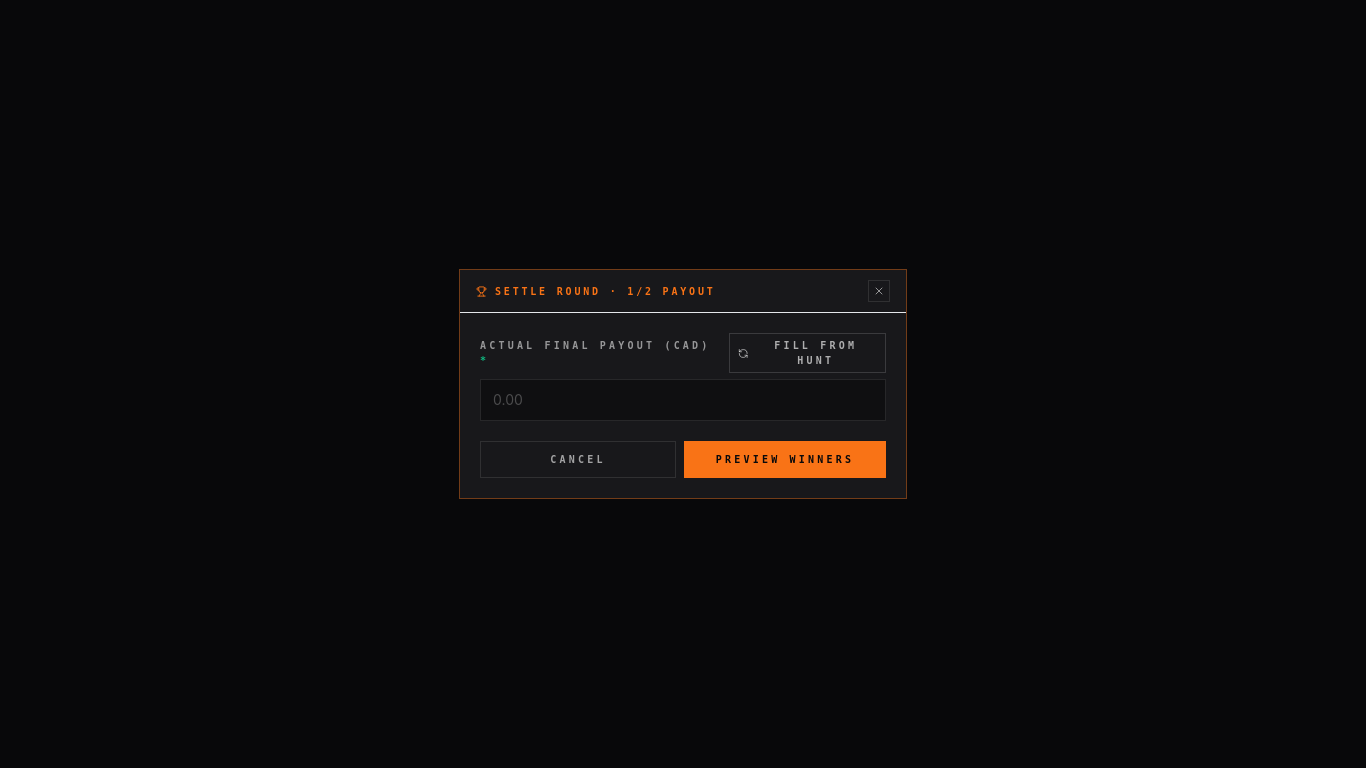
Scenario: Fill from hunt on a missing hunt shows a readable error
This screenshot has width=1366, height=768.
Click the button "Fill from hunt". click: (808, 353)
box: [729,333,886,373]
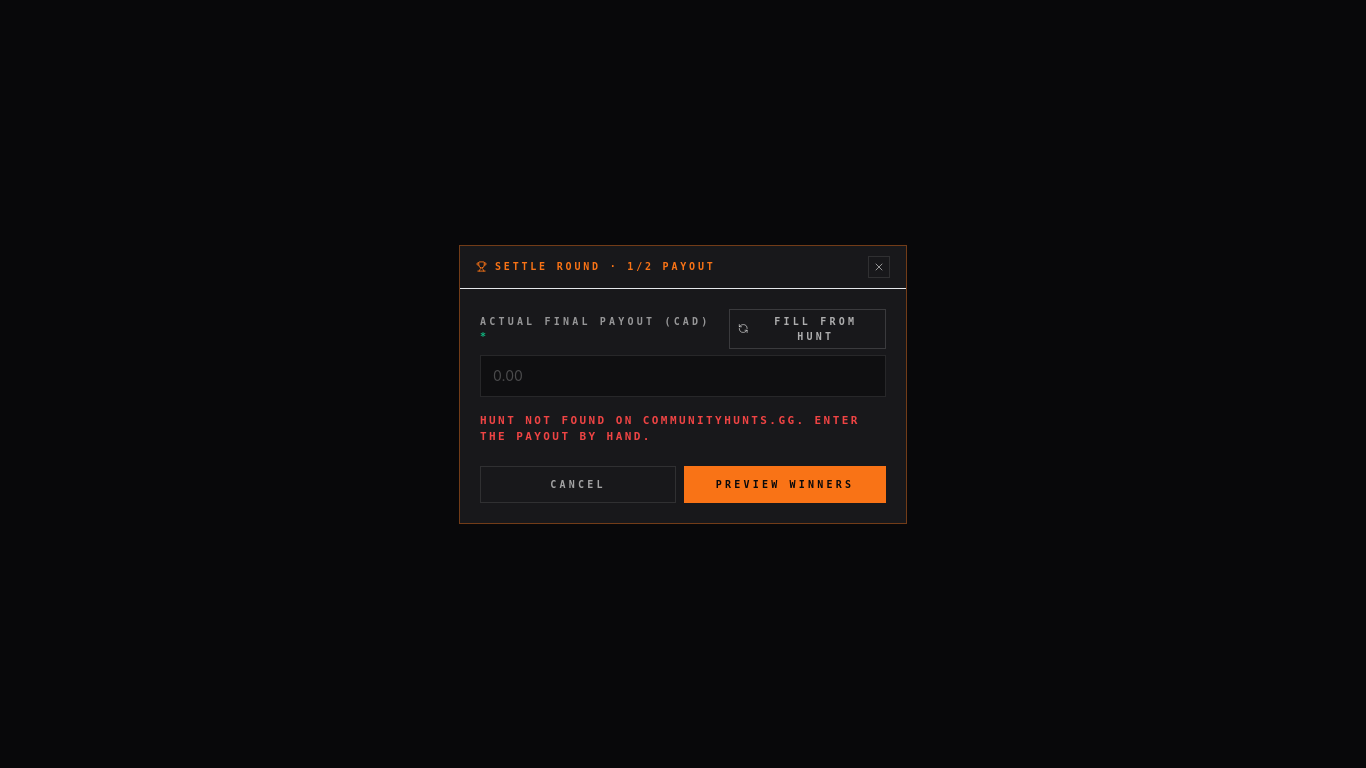
Expected: the number field labelled "Actual final payout (CAD) *" is empty, [480,354,886,396]
Now the text "not found on communityhunts.gg" is shown, box [480,414,860,443]
